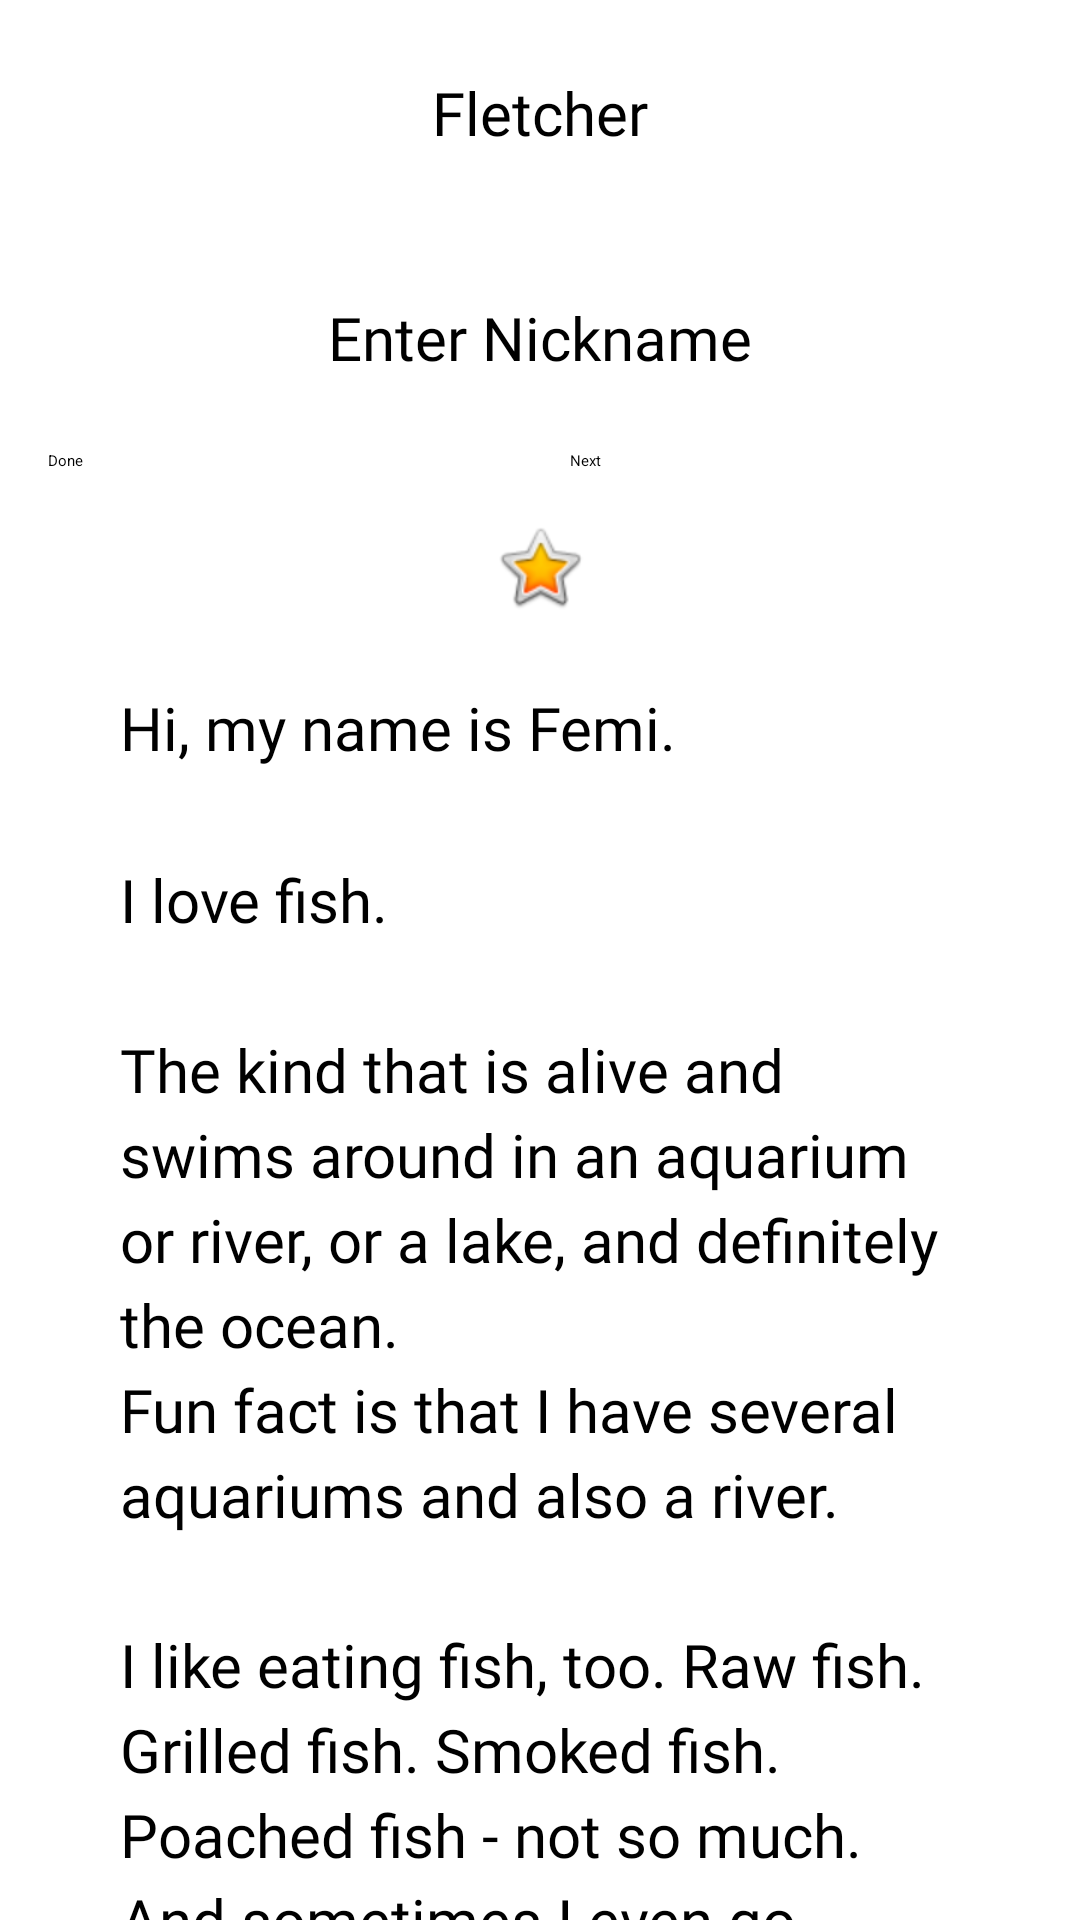

Locate icon controls on the screen. Image size 1080 × 1920, boxes as (x1, y1, x2, y2).
Yellow star: (501, 529, 581, 607)
